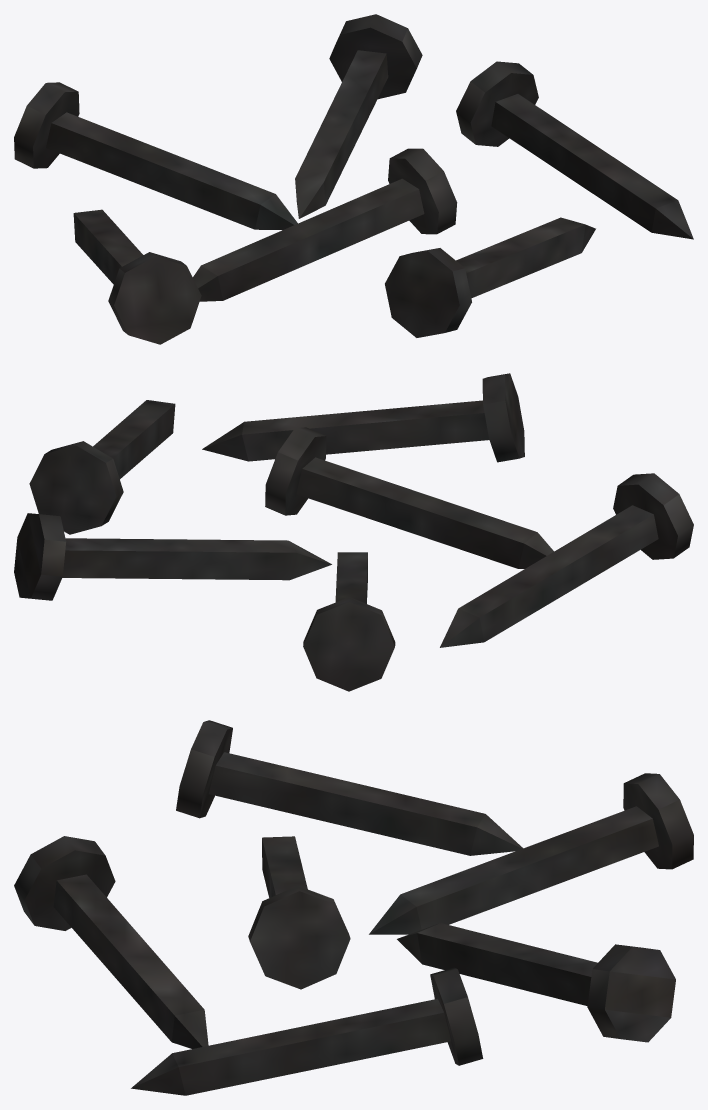
File: nails_1.obj
3 renders of one model, top to bottom at view 1: azimuth 30°, elevation 25°; view 2: azimuth 150°, elevation 25°; view 3: azimuth 270°, elevation 25°, orthographic. The views are drawn at different scales.
Visible parts, largest first — view 1: nails_1; view 2: nails_1; view 3: nails_1.
Boxes of the visible parts, x1,y1,x2,y2 form: nails_1: (14, 14, 693, 344); nails_1: (14, 373, 693, 691); nails_1: (14, 720, 693, 1095).
Size of the model in its own units: 4.5 by 0.6761 by 4.31.
Materials: 1 (1 with a texture image).
